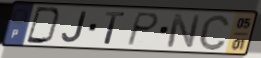C: (197, 13, 231, 53)
D: (25, 6, 63, 46)
J: (60, 10, 89, 44)
N: (165, 13, 202, 50)
P: (124, 11, 161, 48)
T: (103, 10, 127, 46)
